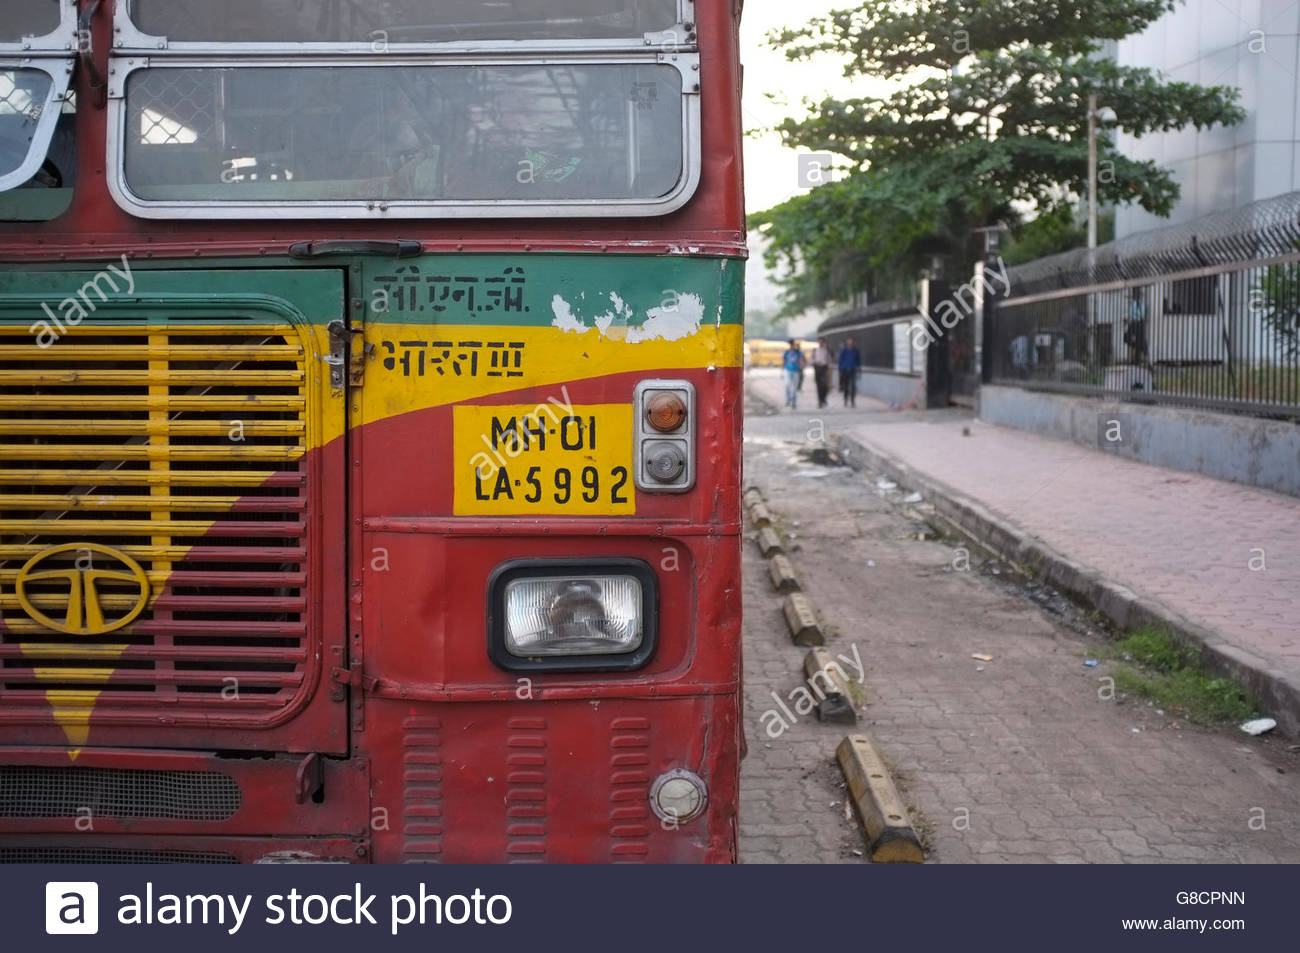number_plate: (447, 398, 643, 521)
